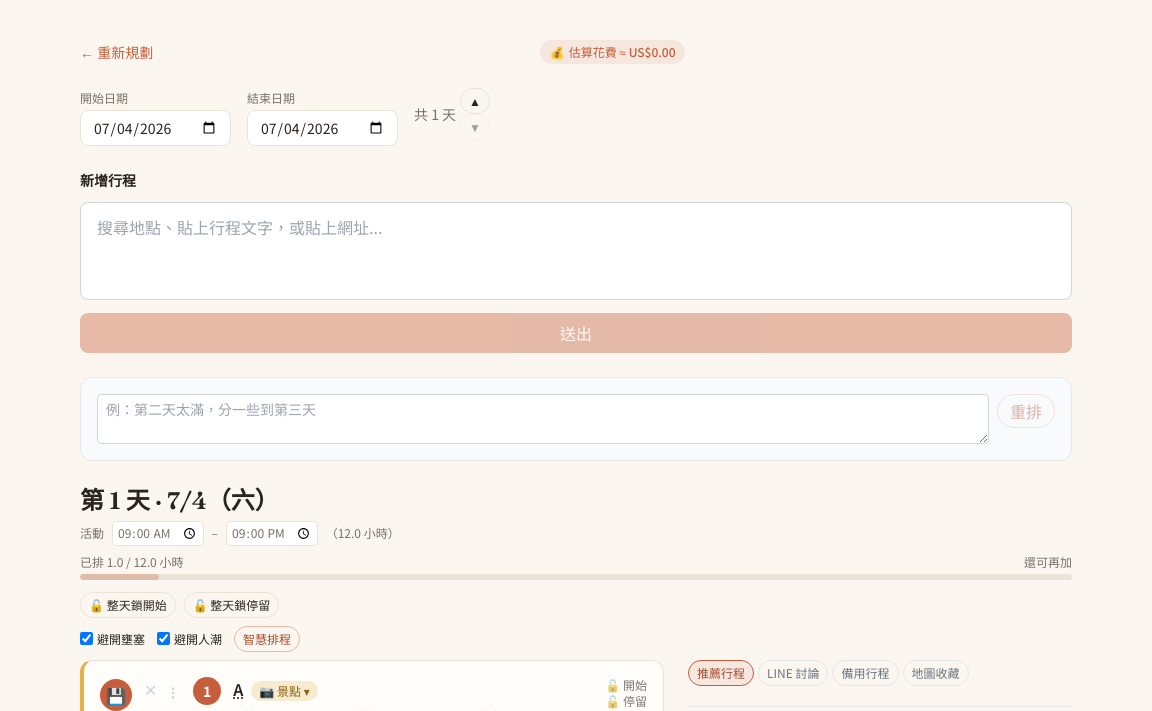
it: deletes a LINE Bot candidate from LINE discussion
The width and height of the screenshot is (1152, 711).
Click the button with test id "side-panel-tab-line" at (793, 673), box x1=758 y1=660 x2=828 y2=686
(page scrolled)
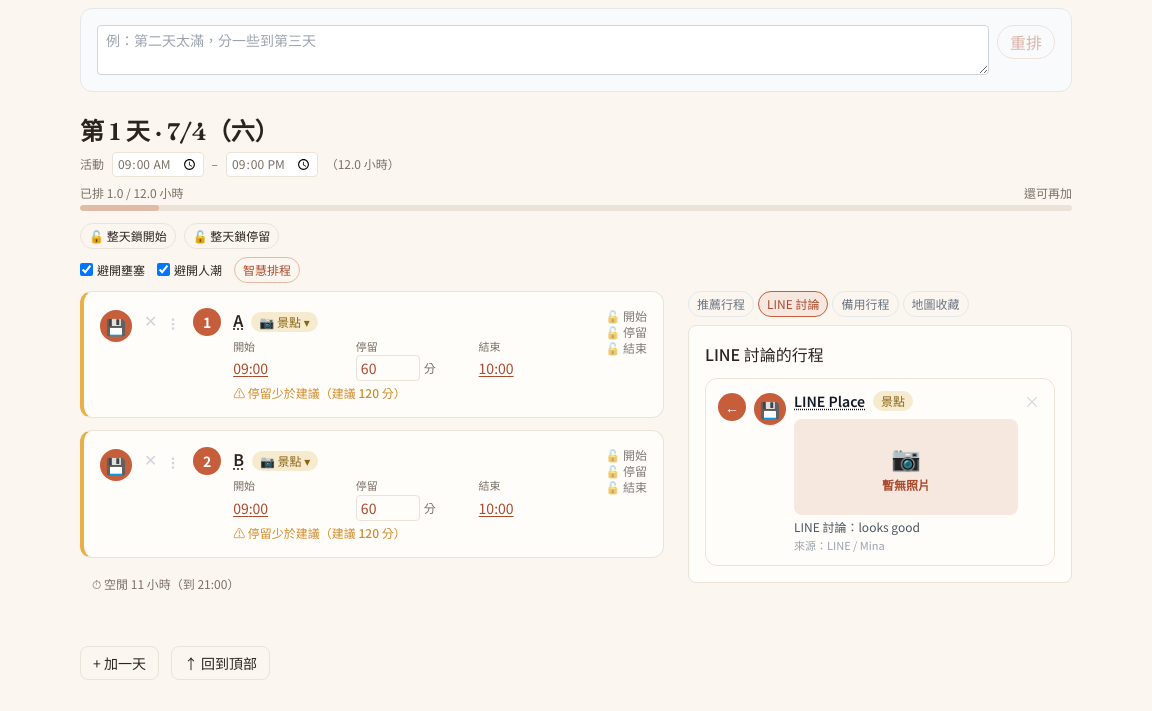
Click the button with test id "line-candidate-delete-c1" at (1032, 401), box x1=1018 y1=387 x2=1046 y2=415
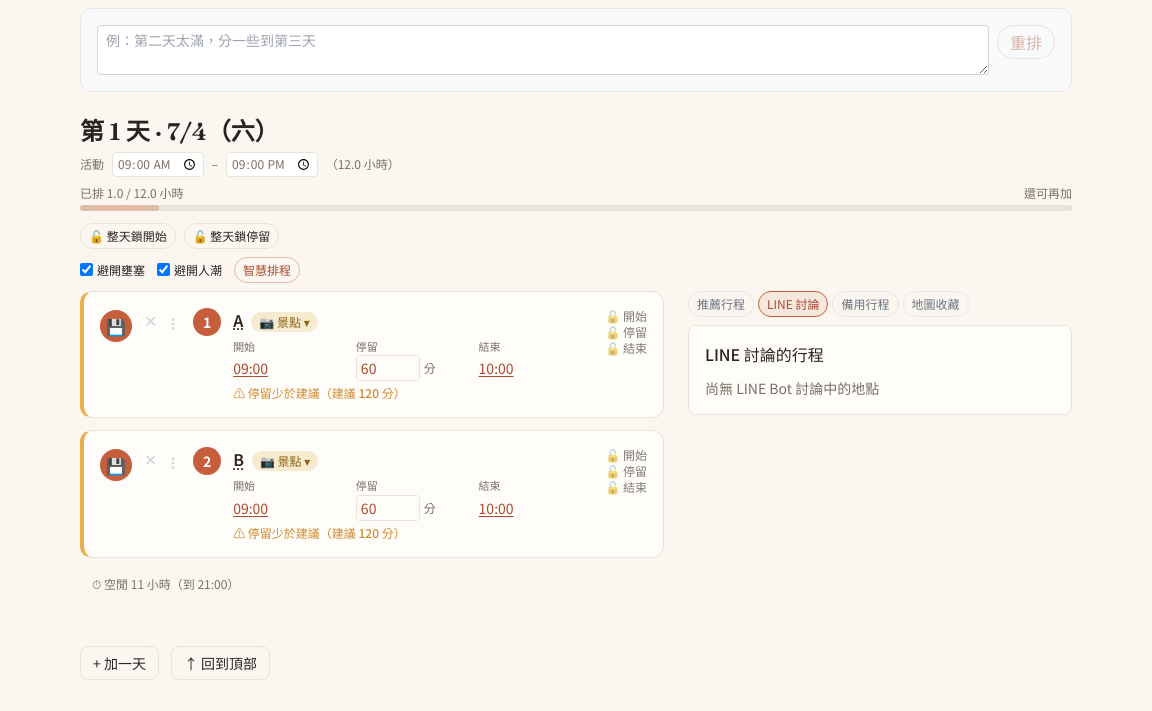
Now the list item with test id "line-candidate-card-c1" is gone
